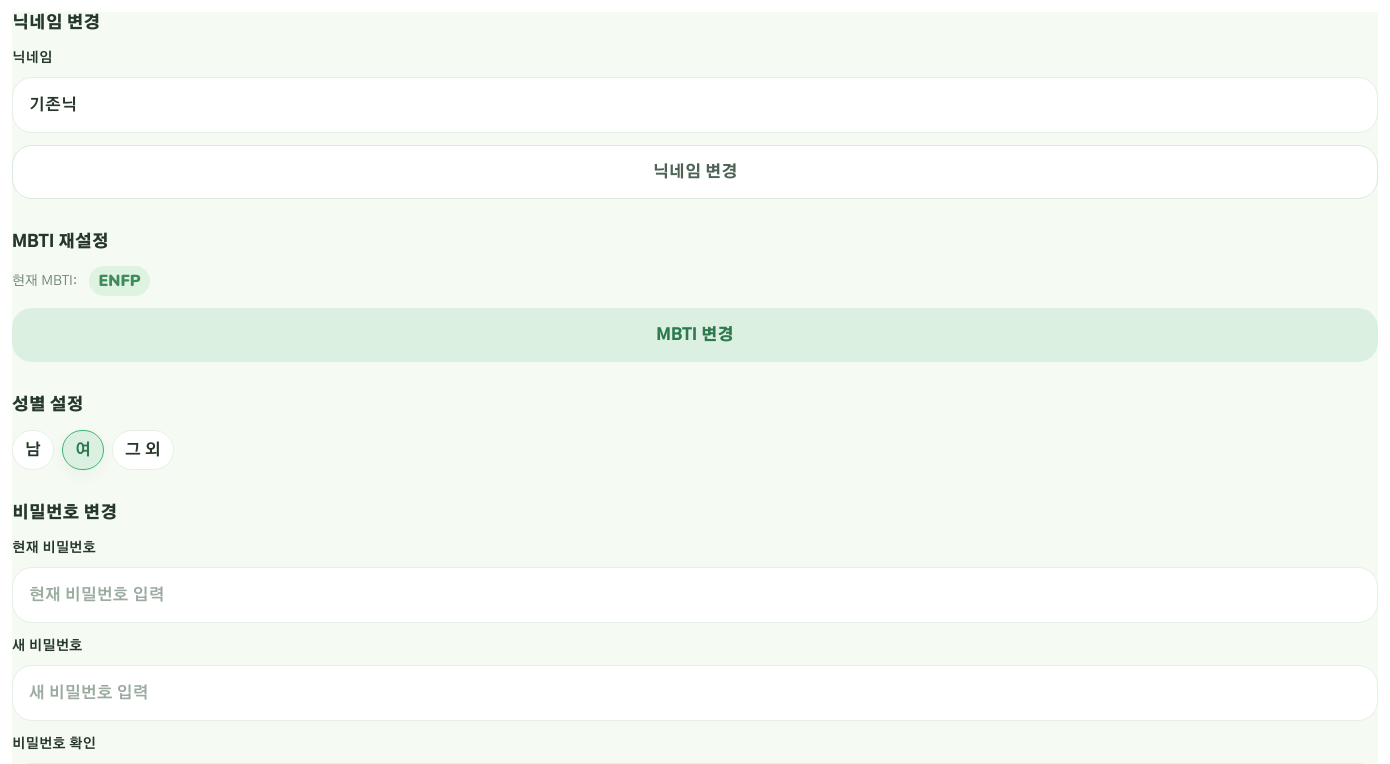
Scenario: SettingsForm › 성별 선택 시 즉시 저장하고 성공 toast를 표시한다
The image size is (1390, 764).
Click the button "남". click: (33, 450)
box: [12, 430, 54, 470]
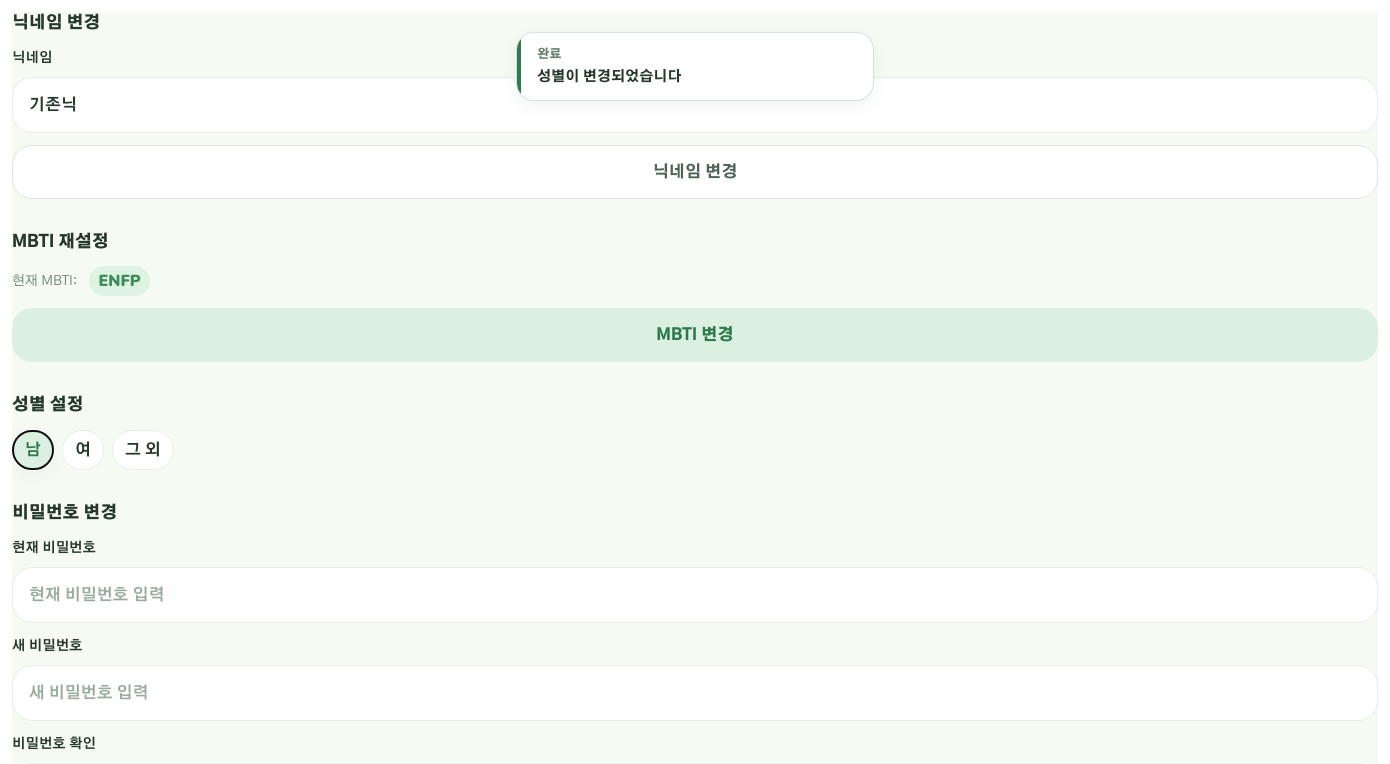
expect the text "성별이 변경되었습니다" is shown: met, box [537, 70, 682, 84]
